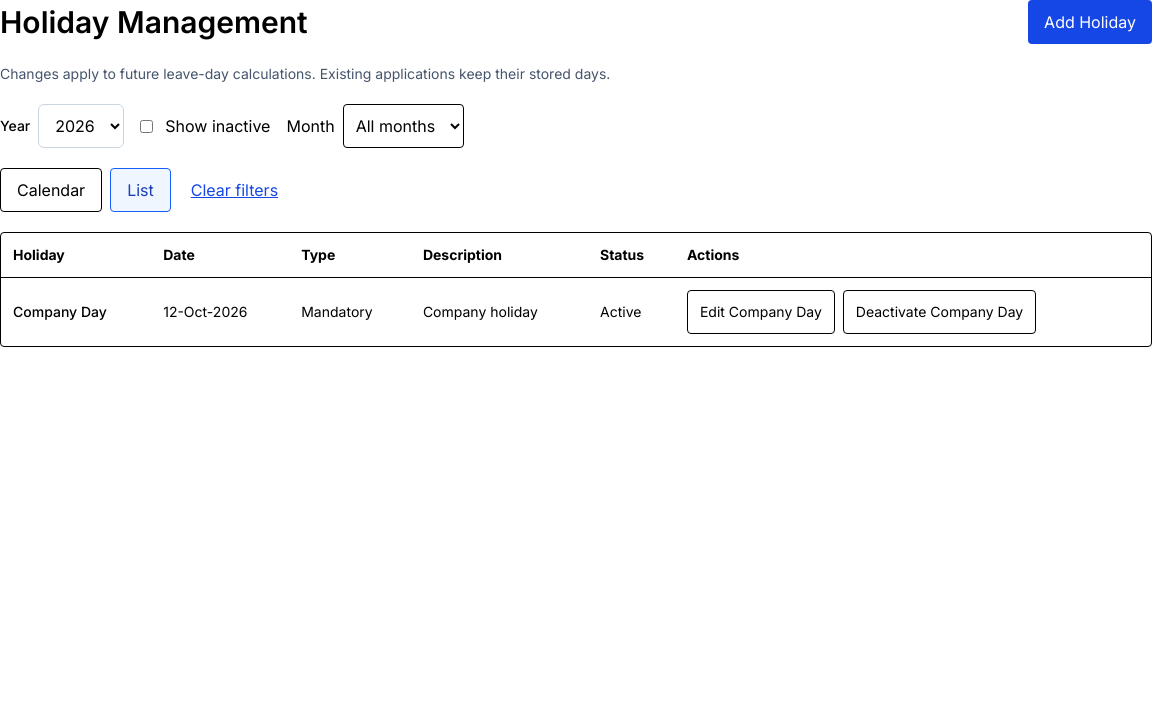
Scenario: Phase 14 holiday administration › validates Date * before writes
Click the button "Add Holiday": click(1090, 22) left=1028, top=0, right=1151, bottom=44
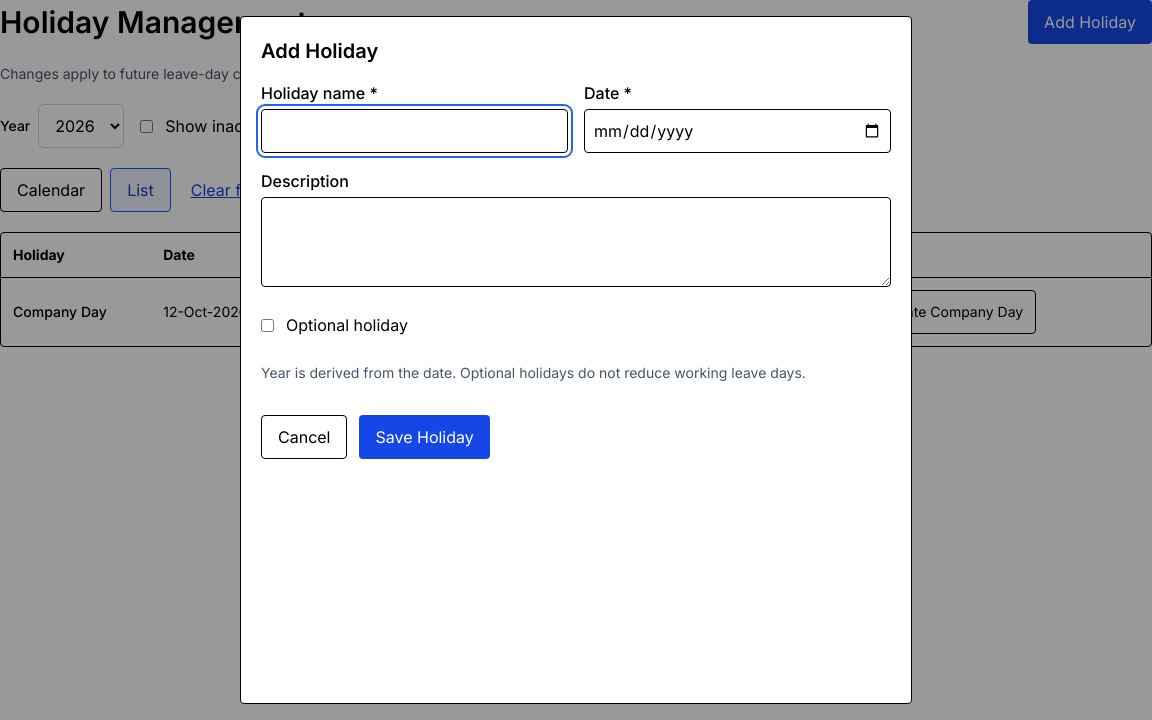
In the field labelled "Holiday name *": (414, 131) left=261, top=109, right=568, bottom=153, type " New Holiday "
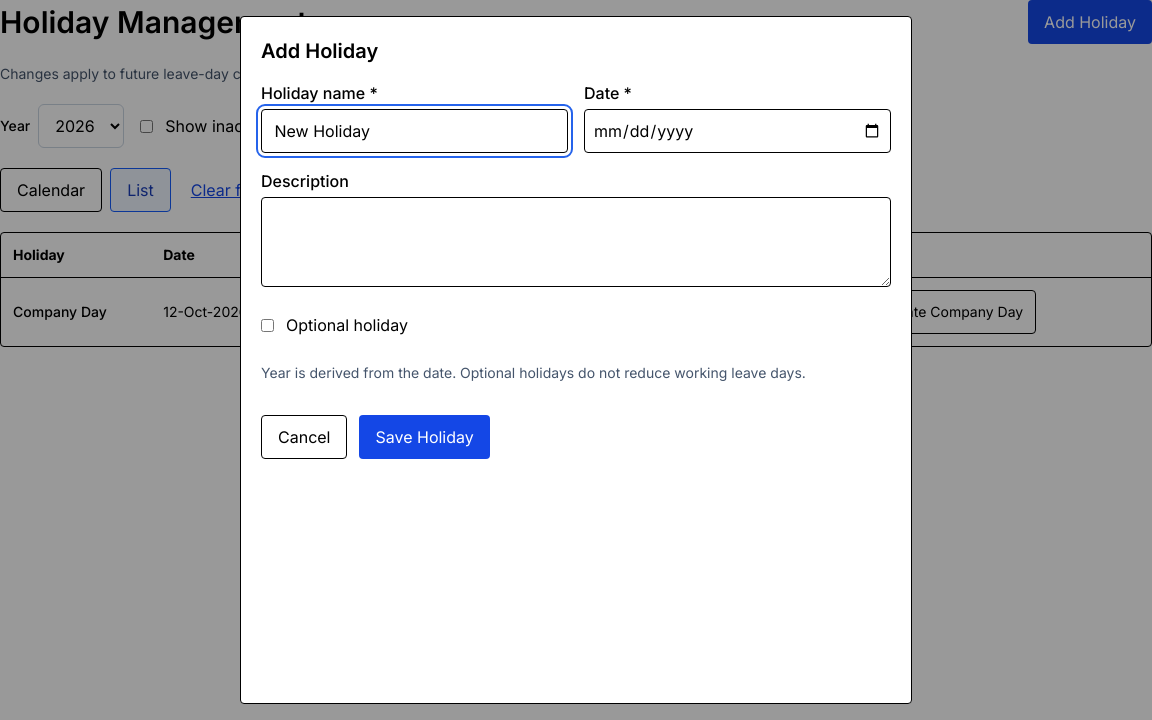
In the date field labelled "Date *": (738, 131) left=584, top=109, right=891, bottom=153, type "2026-10-19"
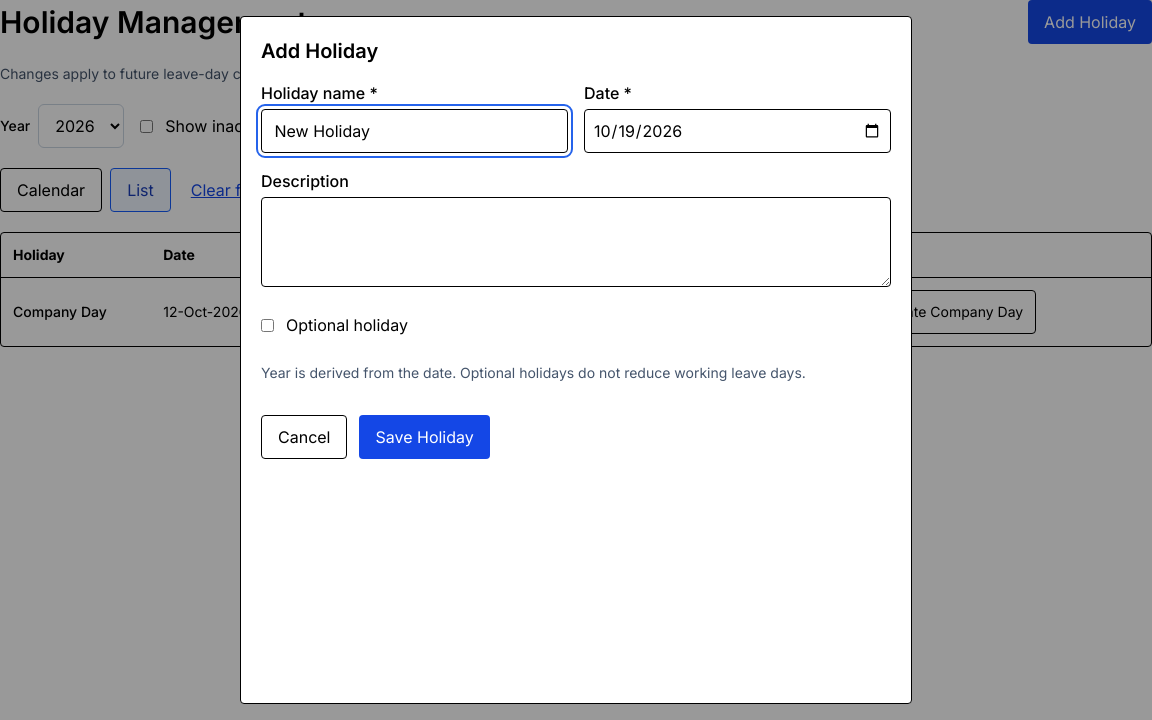
Clear the date field labelled "Date *": (738, 131) left=584, top=109, right=891, bottom=153
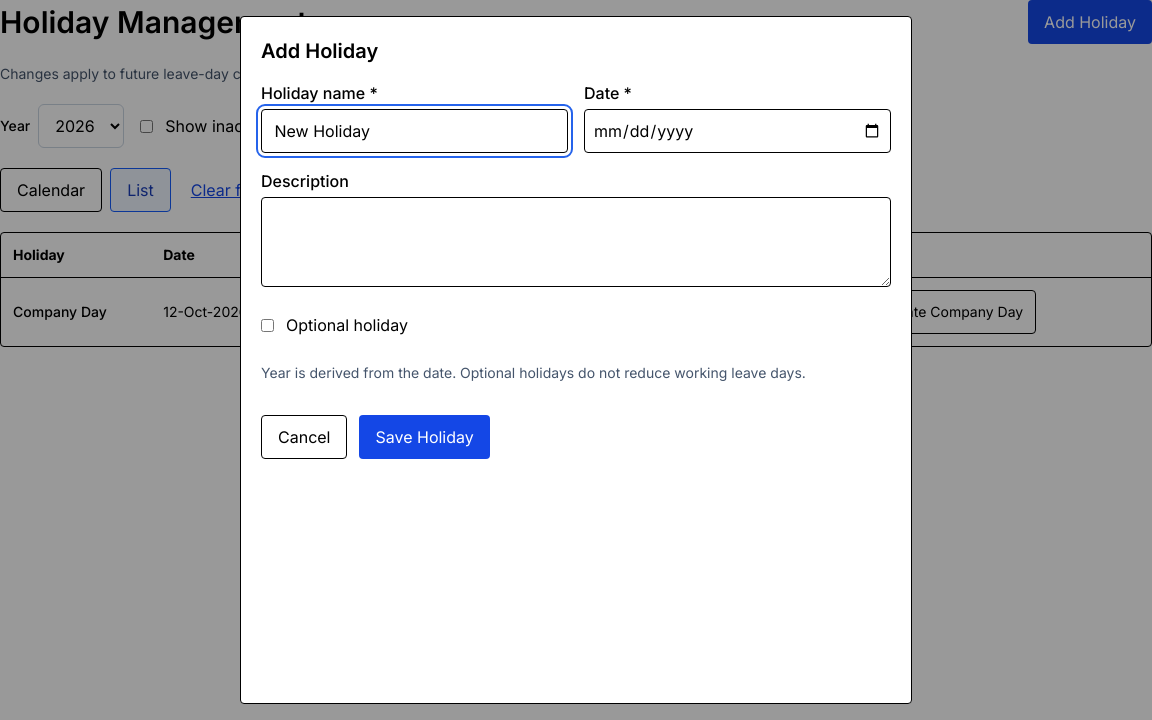
Click the button "Save Holiday": click(425, 437) left=360, top=415, right=490, bottom=459
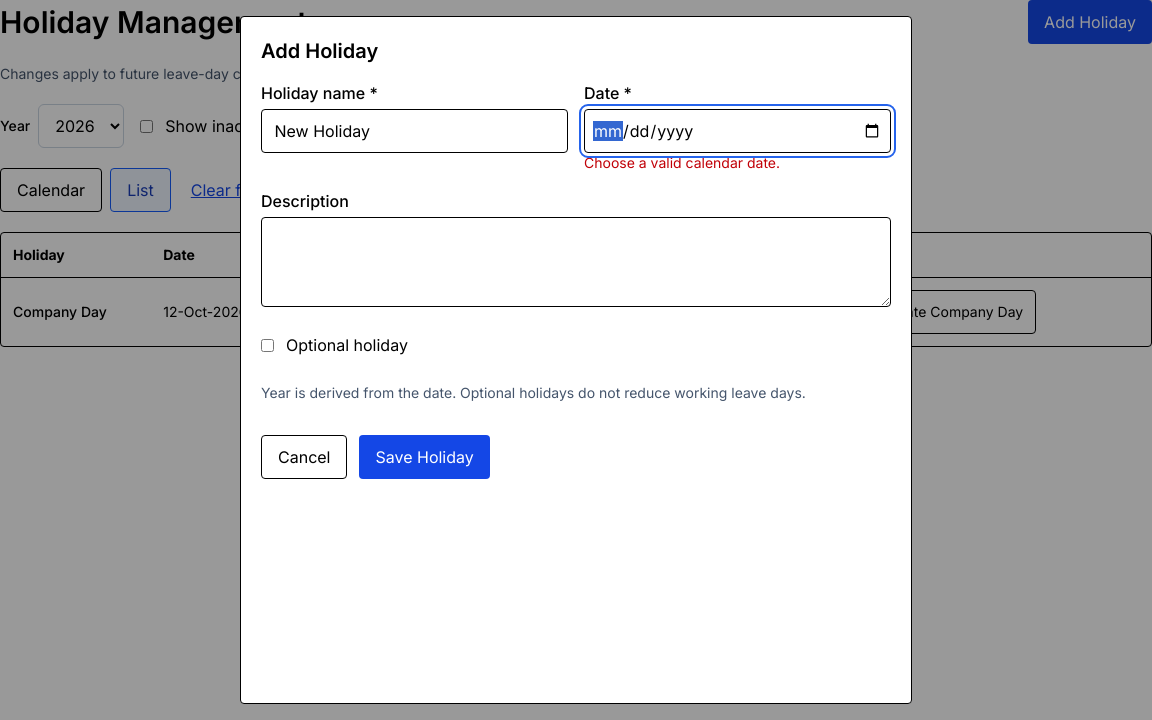
Now the text "Choose a valid calendar date." is shown, box left=584, top=154, right=780, bottom=171
